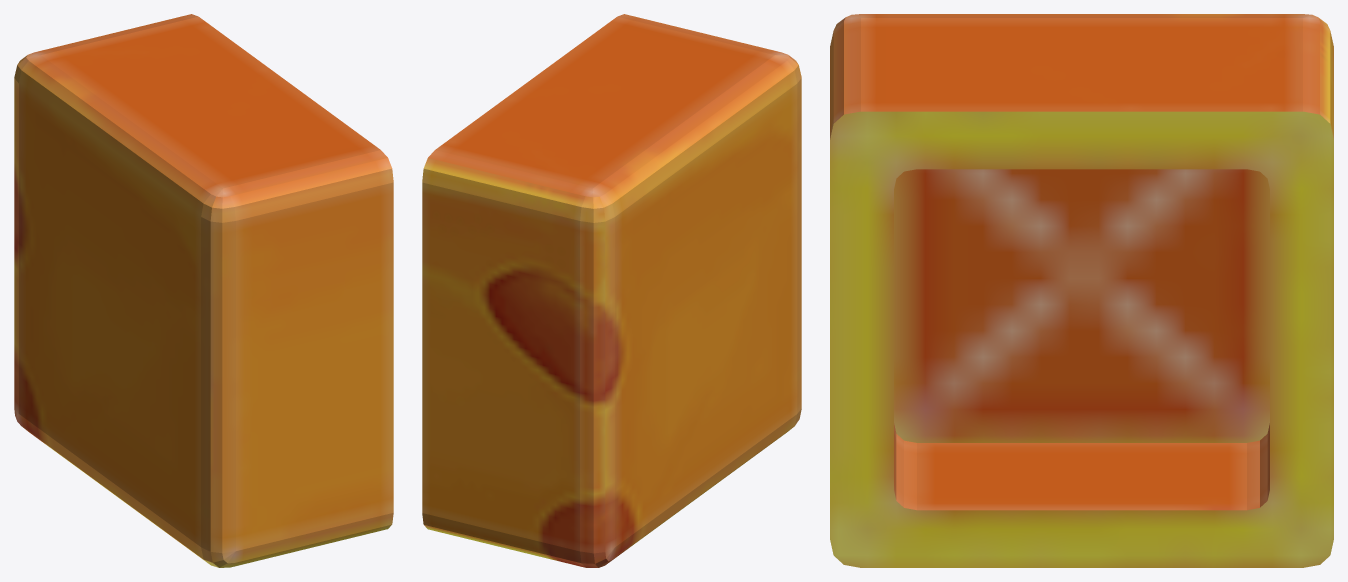
The model's file is 奶酪左.FBX.
The picture shows the model from 3 angles, left to right: view 1: azimuth 30°, elevation 25°; view 2: azimuth 150°, elevation 25°; view 3: azimuth 270°, elevation 25°; orthographic projection. The views are drawn at different scales.
Parts seen in each view (by area): view 1: Box002; view 2: Box002; view 3: Box002.
Boxes of the visible parts, box(x1,y1,x2,y2) form: Box002: box(14, 14, 393, 567); Box002: box(422, 14, 801, 567); Box002: box(830, 14, 1333, 567).
Size of the model in its own units: 25 by 50 by 50.
